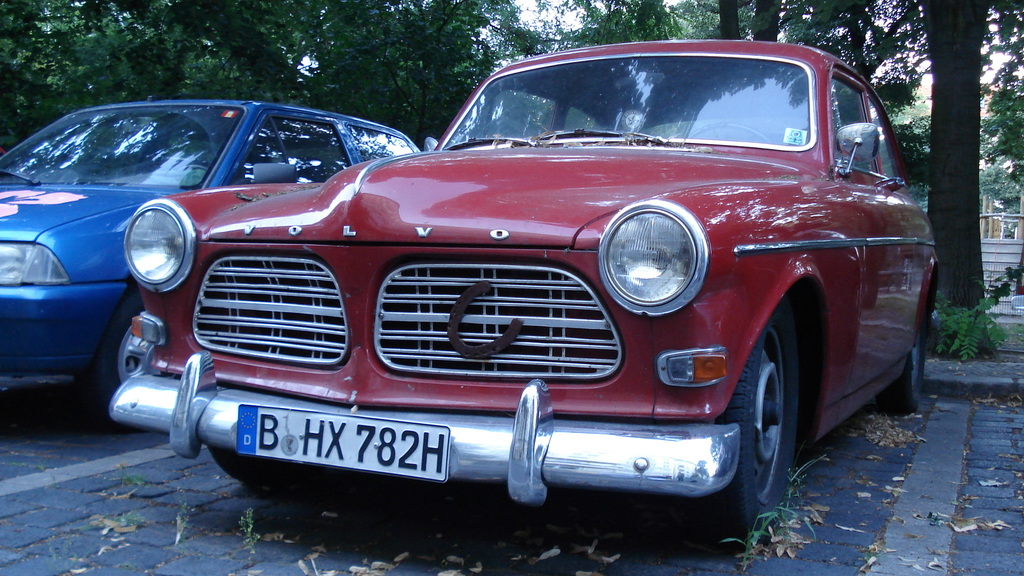Car: (95, 55, 952, 533), (0, 96, 424, 419)
